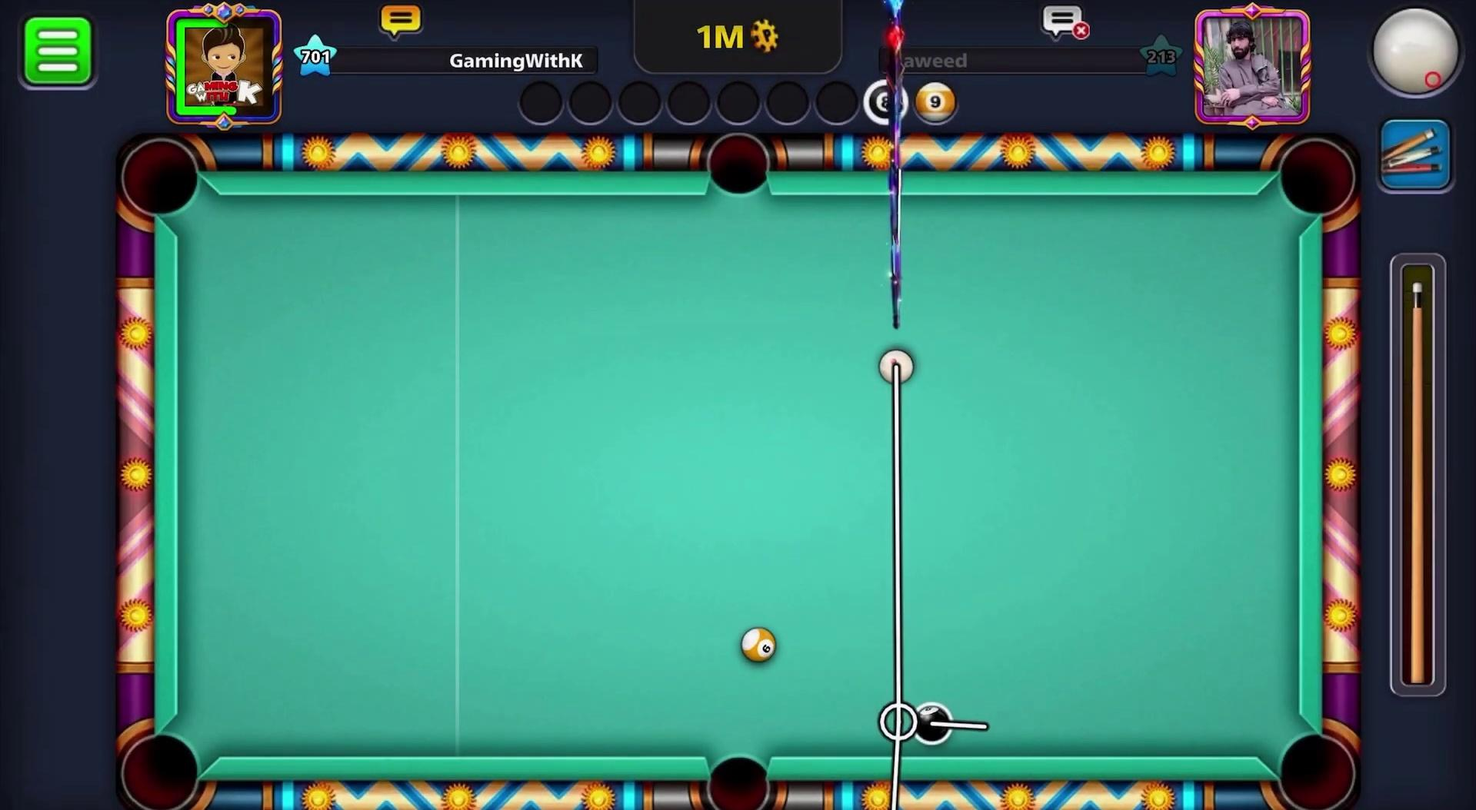Ball: (734, 621, 783, 672), (908, 700, 956, 745)
Force: (1386, 254, 1453, 703)
Guideline: (878, 349, 988, 809)
Hole: (108, 128, 215, 231), (1268, 128, 1366, 231), (109, 717, 214, 809), (1266, 722, 1364, 809), (685, 739, 787, 809), (696, 128, 779, 206)
Play_Area: (177, 191, 1293, 759)
Spin: (1346, 0, 1475, 115)
White: (871, 339, 922, 390)
